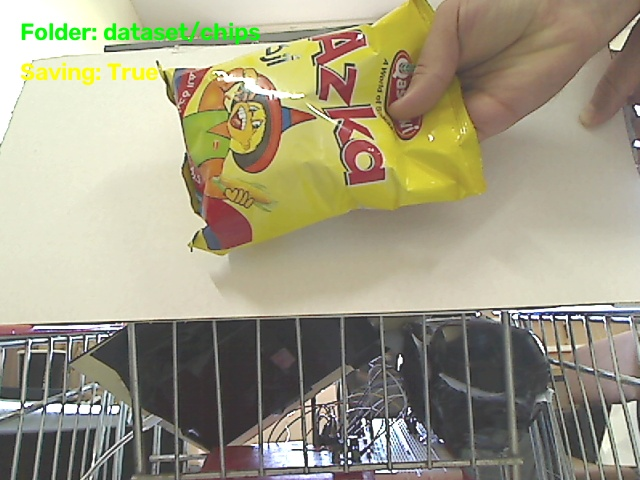chips: (161, 0, 484, 253)
